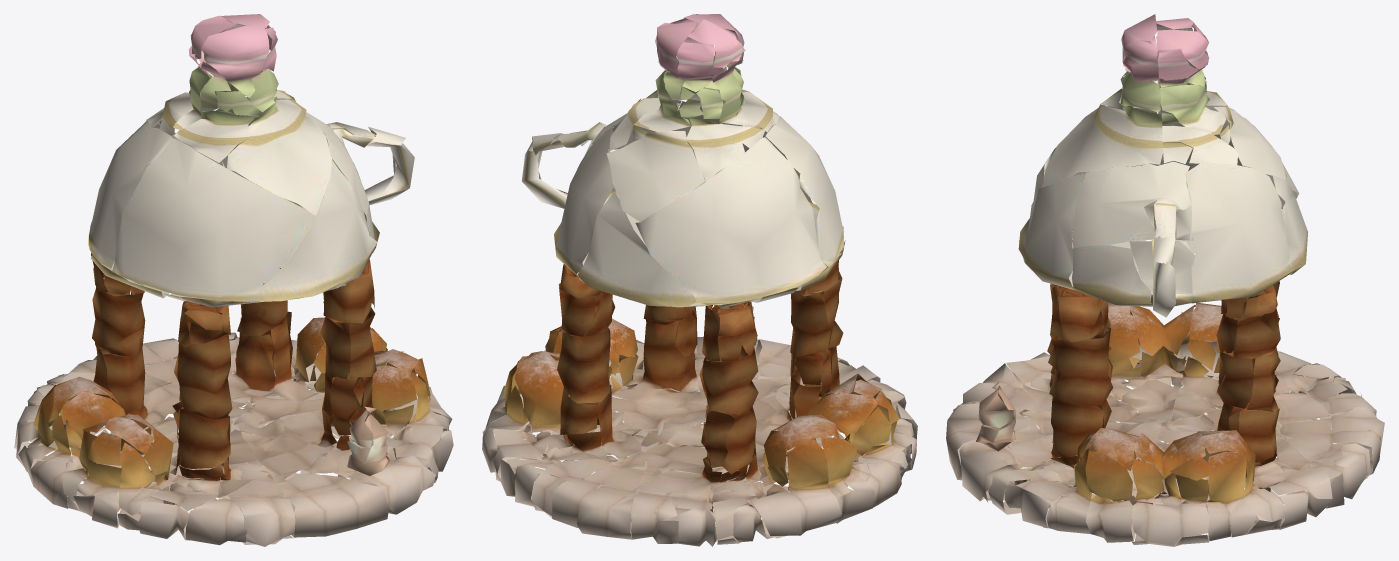
Rendered from teacup-gazebo-park.glb.
3 views of the same model, side by side, from view 1: azimuth 30°, elevation 25°; view 2: azimuth 150°, elevation 25°; view 3: azimuth 270°, elevation 25° (orthographic).
Parts seen in each view (by area): view 1: Mesh_0; view 2: Mesh_0; view 3: Mesh_0.
Boxes of the visible parts, x1,y1,x2,y2 form: Mesh_0: (14,14,453,546); Mesh_0: (482,14,917,546); Mesh_0: (946,14,1384,546).
Size of the model in its own units: 1.74 by 1.92 by 1.75.
1 material, 1 textured.
